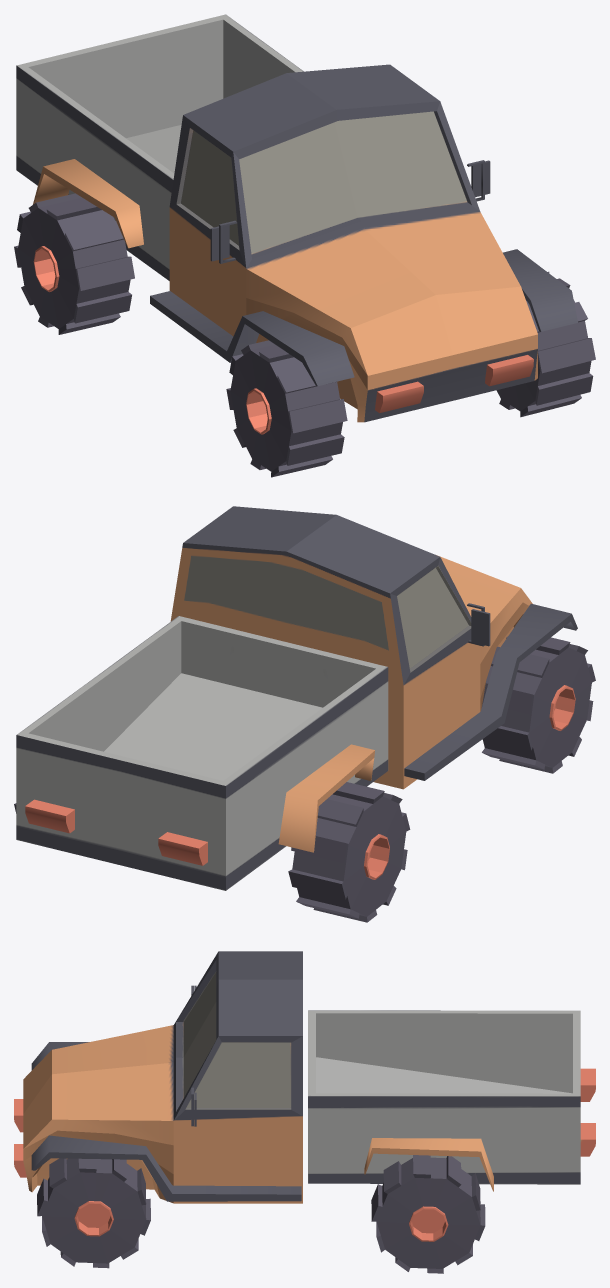
The model's file is car500.fbx.
3 renders of one model, top to bottom at view 1: azimuth 30°, elevation 25°; view 2: azimuth 150°, elevation 25°; view 3: azimuth 270°, elevation 25°, orthographic. The views are drawn at different scales.
Visible parts, largest first — view 1: car500_body, car500_wheel_rear_RGH, car500_wheel_front_RGH, car500_wheel_front_LEF, car500_light_front_RGH, car500_light_front_LEF; view 2: car500_body, car500_wheel_rear_RGH, car500_wheel_front_RGH, car500_light_rear_RGH, car500_light_rear_LEF; view 3: car500_body, car500_wheel_rear_LEF, car500_wheel_front_LEF, car500_light_rear_RGH, car500_light_rear_LEF.
Boxes of the visible parts, x1,y1,x2,y2 form: car500_body: (16,14,577,422); car500_wheel_rear_RGH: (14,193,134,334); car500_wheel_front_RGH: (226,340,347,477); car500_wheel_front_LEF: (496,271,595,417); car500_light_front_RGH: (375,381,423,412); car500_light_front_LEF: (485,355,533,386); car500_body: (16,506,577,890); car500_wheel_rear_RGH: (288,782,410,922); car500_wheel_front_RGH: (482,636,595,773); car500_light_rear_RGH: (158,832,207,865); car500_light_rear_LEF: (25,799,74,833); car500_body: (23,951,580,1203); car500_wheel_rear_LEF: (371,1155,485,1273); car500_wheel_front_LEF: (37,1158,150,1268); car500_light_rear_RGH: (580,1068,595,1101); car500_light_rear_LEF: (580,1123,595,1156).
Bounding box in the file's own units: 3.32 × 2.56 × 5.96.
Materials: 1 (1 with a texture image).
